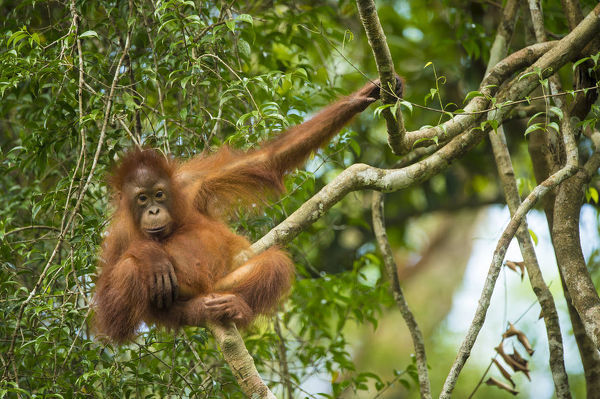Orangutan: (99, 127, 299, 326)
